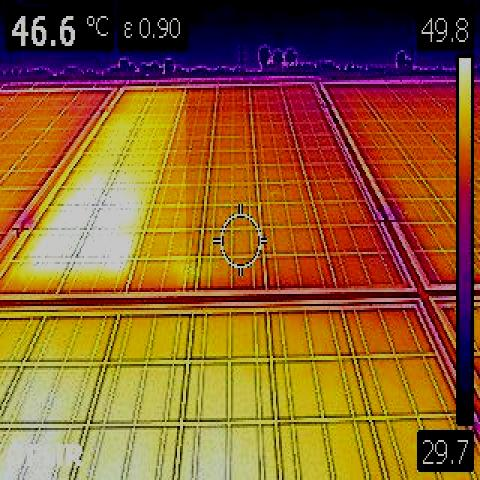fault: (0, 87, 186, 293)
